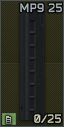MP9 9x19 25-round magazine: (0, 0, 64, 127)
